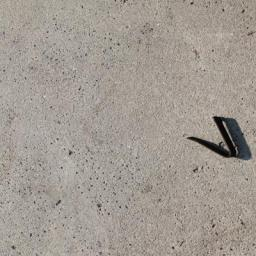FOD: (186, 111, 252, 167)
